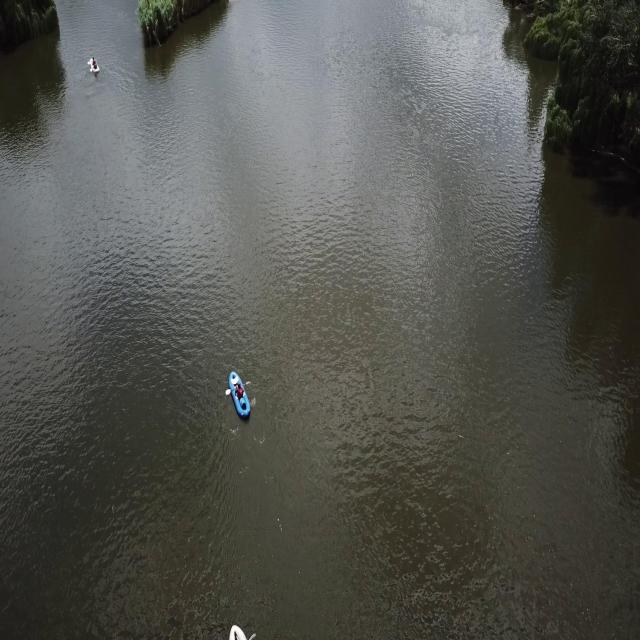kayak: (228, 368, 251, 423), (88, 55, 101, 79)
